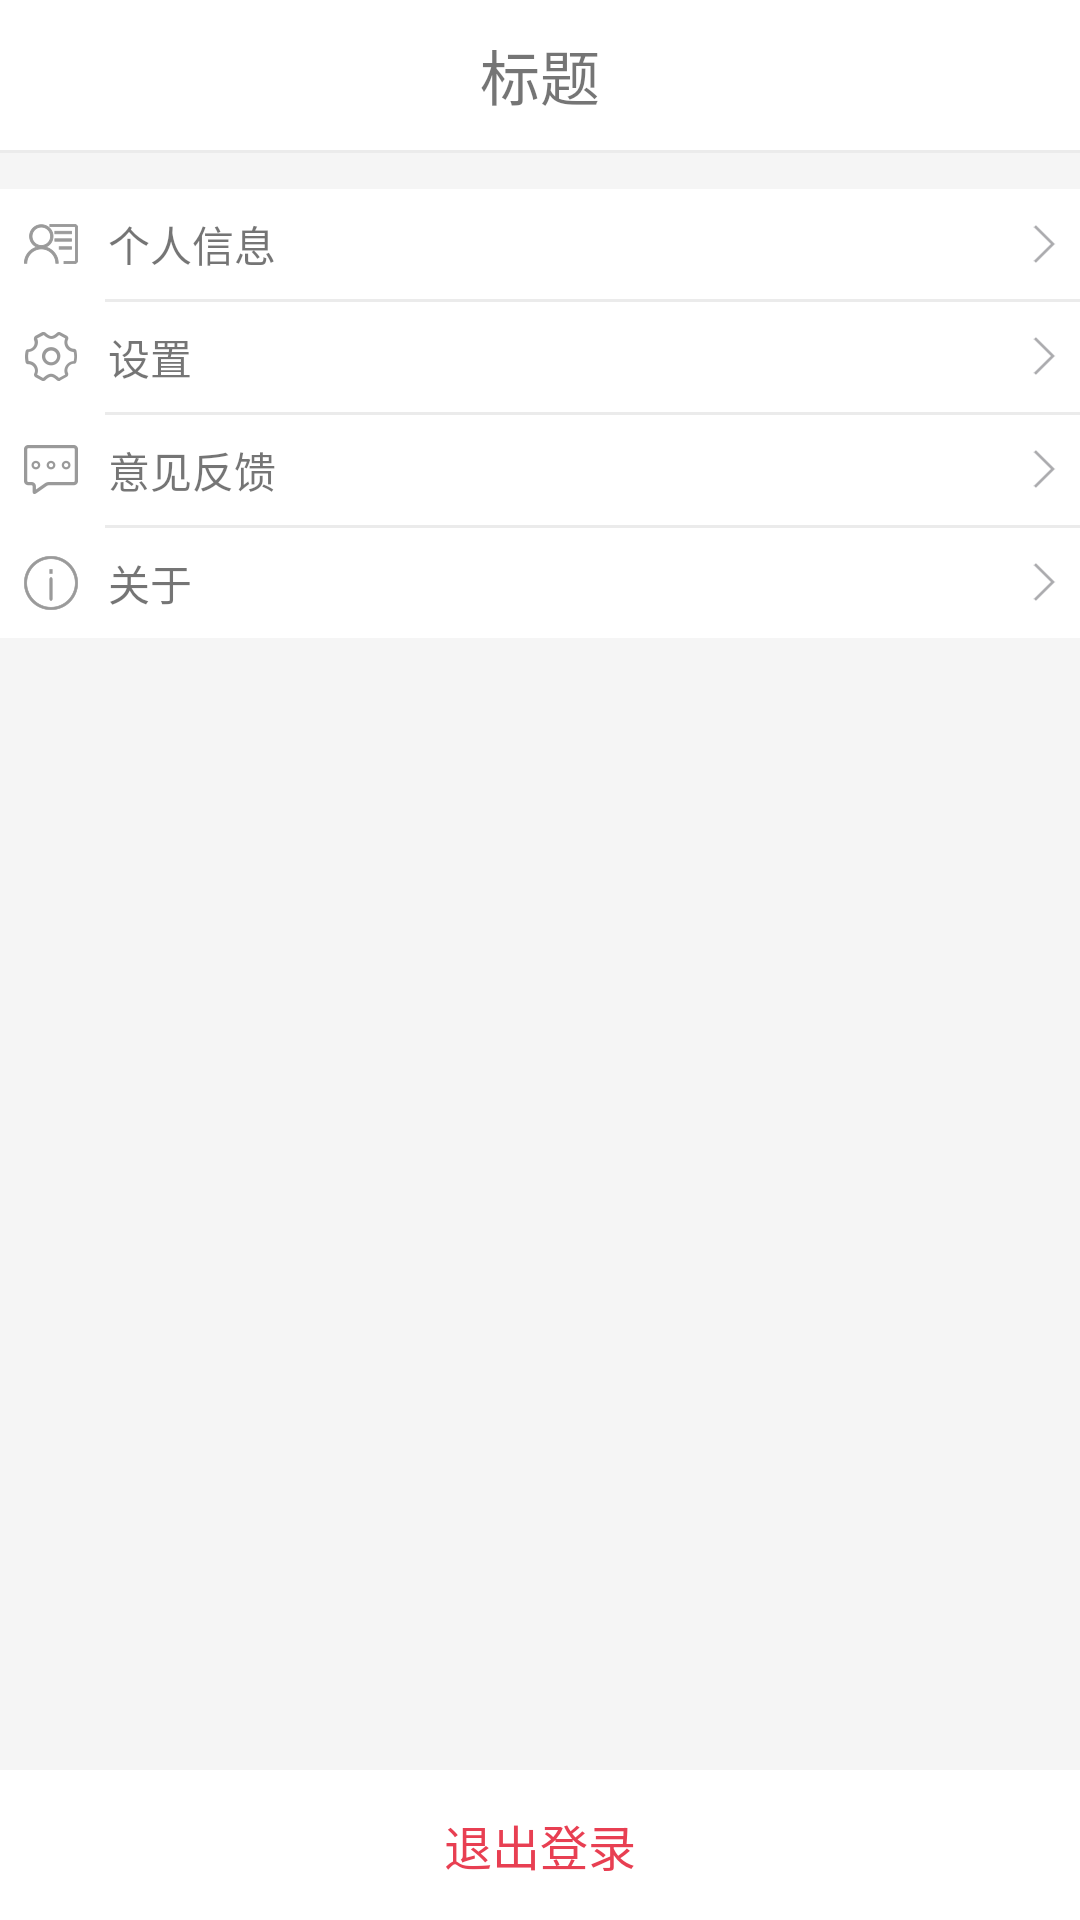

Point at icon controls on the screen. Image size 1080×1920, points as [x,y].
about: [51,583]
feedback: [51,469]
infor: [51,244]
setting: [51,356]
